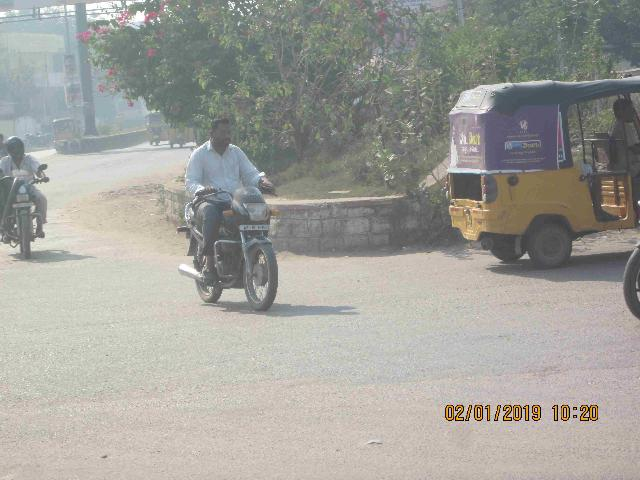helm: (6, 137, 27, 159)
motor: (176, 183, 283, 315), (2, 163, 51, 261)
non-helm: (210, 118, 235, 152)
